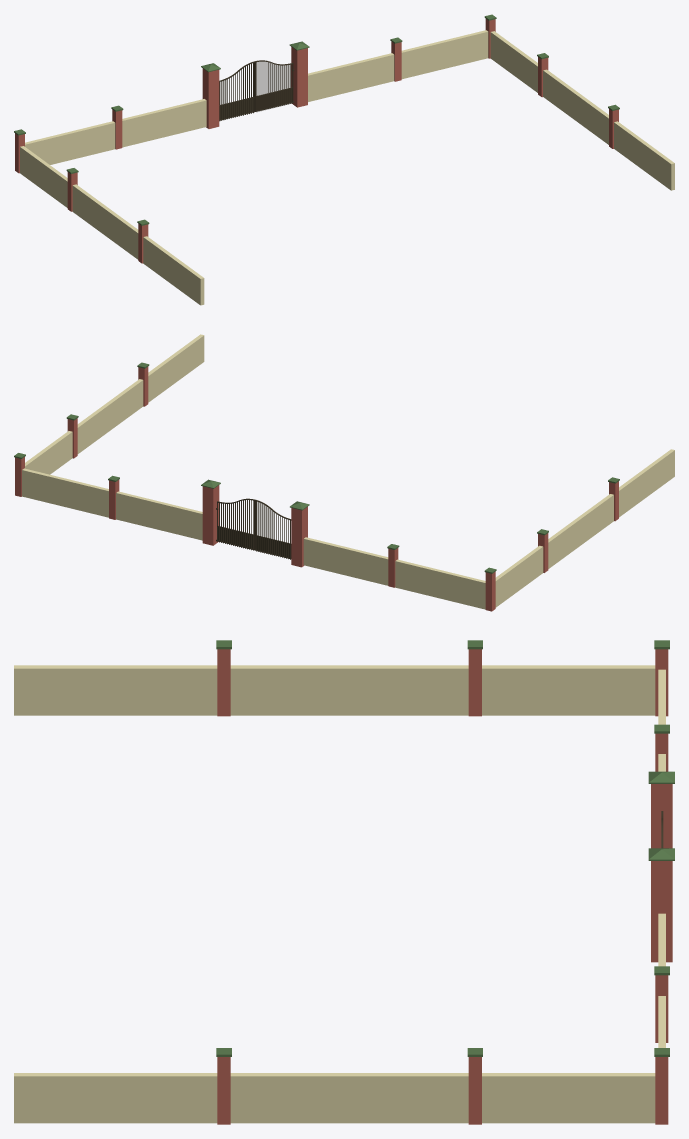
Rendered from fence wall with gate.fbx.
3 views of the same model, one above another, from view 1: azimuth 30°, elevation 25°; view 2: azimuth 150°, elevation 25°; view 3: azimuth 270°, elevation 25° (orthographic). The views are drawn at different scales.
Parts seen in each view (by area): view 1: muretto_4, muretto_3, muretto, muretto_2, colonne, anta_mobile_sx, anta_mobile_dx; view 2: muretto_4, muretto_2, muretto, muretto_3, colonne, anta_mobile_dx, anta_mobile_sx; view 3: muretto_4, muretto_3, colonne, muretto.
Boxes of the visible parts, box(x1,y1,x2,y2) form: muretto_4: box(20, 146, 204, 305); muretto_3: box(490, 31, 674, 190); muretto: box(308, 30, 488, 101); muretto_2: box(25, 99, 206, 164); colonne: box(14, 14, 619, 263); anta_mobile_sx: box(255, 60, 293, 111); anta_mobile_dx: box(219, 61, 255, 121); muretto_4: box(495, 449, 674, 607); muretto_2: box(303, 537, 485, 609); muretto: box(22, 468, 202, 540); muretto_3: box(25, 334, 204, 474); colonne: box(14, 362, 619, 611); anta_mobile_dx: box(255, 499, 291, 559); anta_mobile_sx: box(216, 498, 254, 550); muretto_4: box(14, 665, 655, 715); muretto_3: box(14, 1073, 655, 1123); colonne: box(216, 640, 674, 1124); muretto: box(658, 913, 665, 1047).
Bounding box in the file's own units: 3772 × 461 × 2544.
